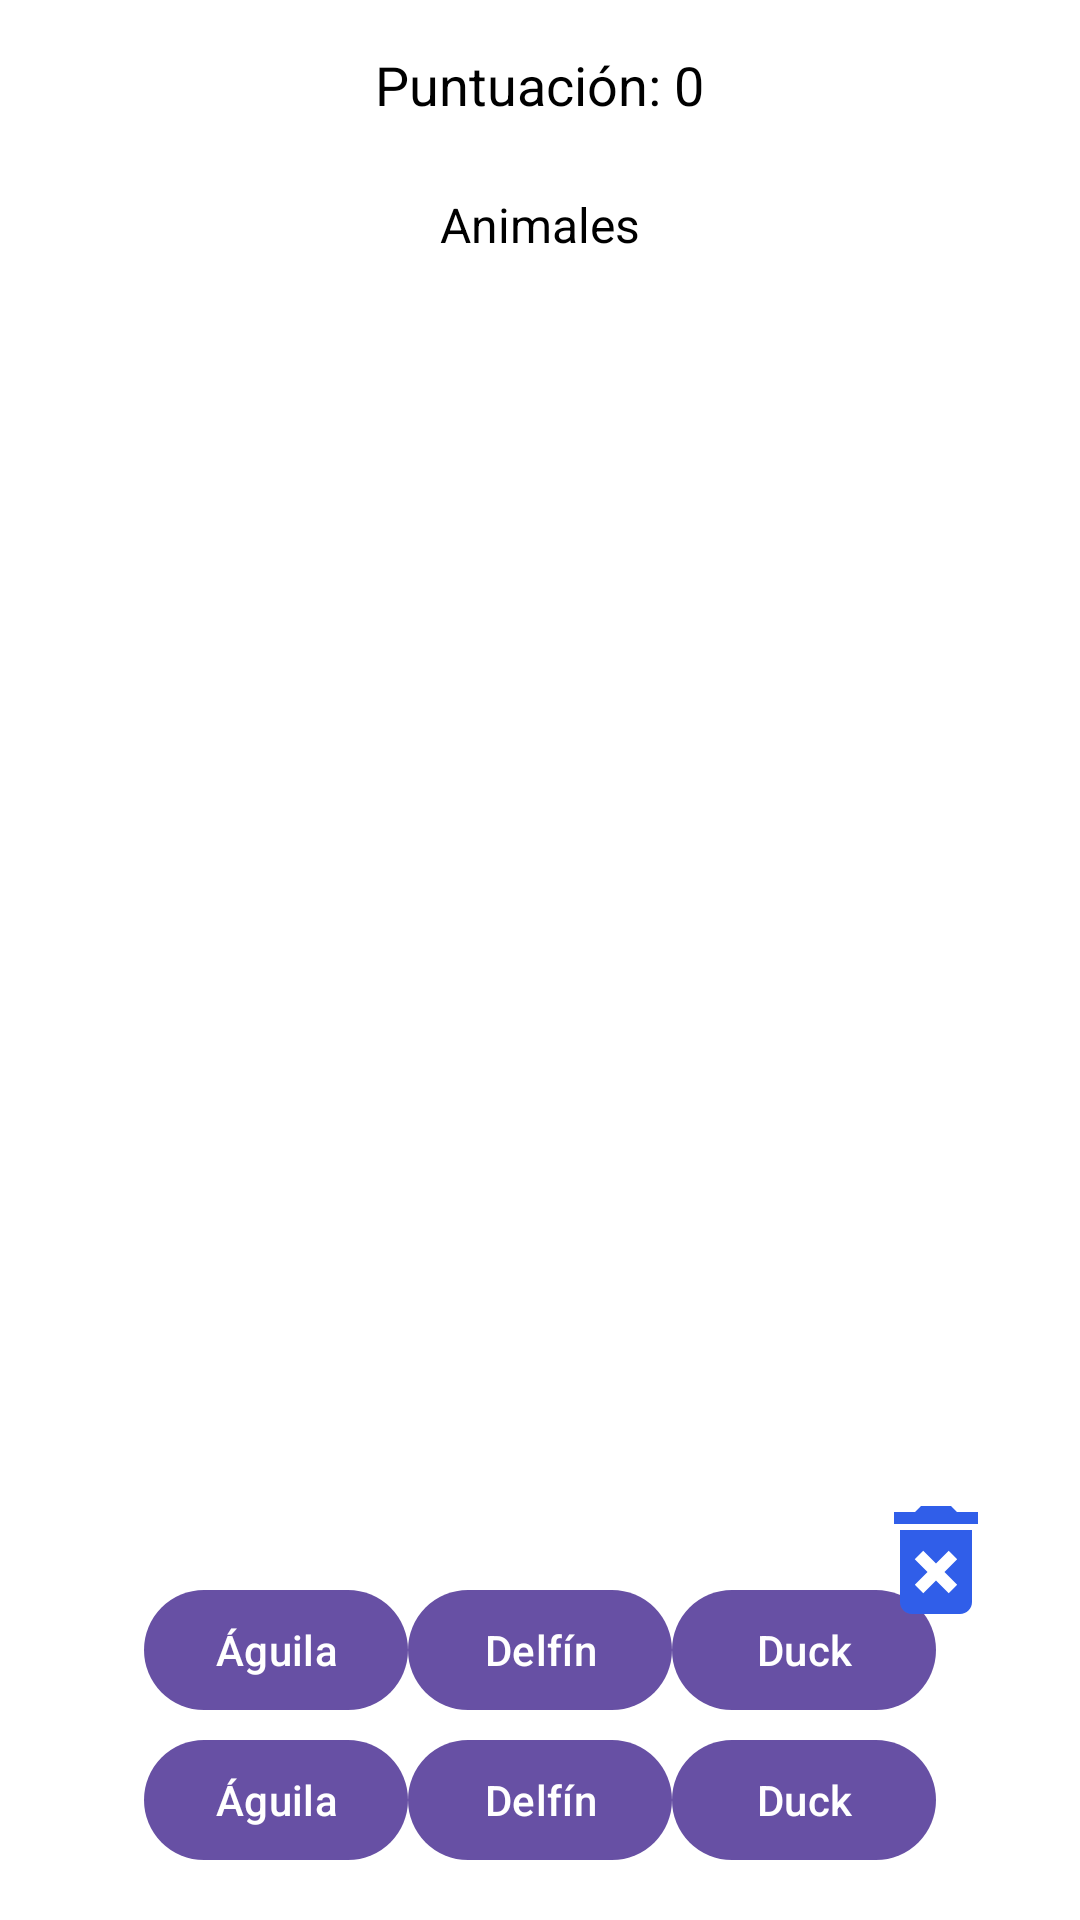

Screen size 1080 x 1920. Icon name, then its center in pixels as (x,y):
delete: (921,1569)
